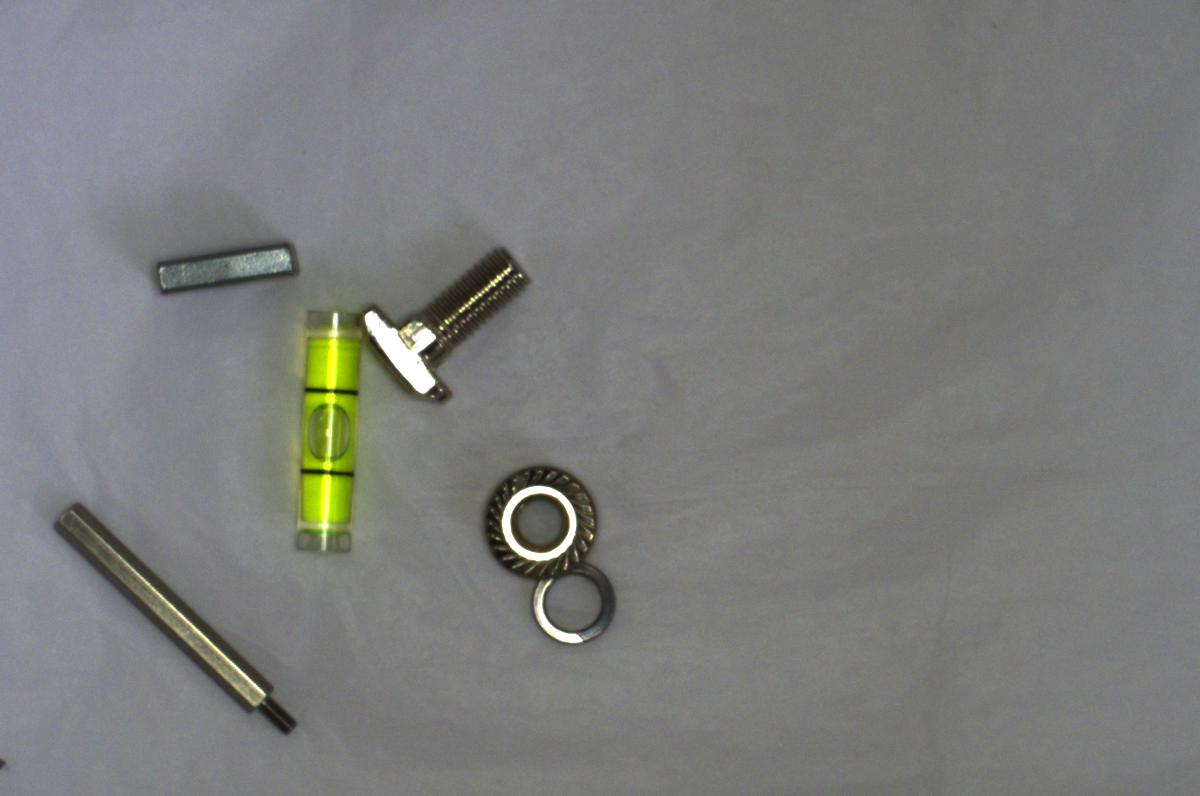Flange nut: (468, 456, 618, 583)
Hexagonal steel column: (54, 499, 300, 740)
Horizontal bubble: (282, 299, 361, 562)
Rectangular nut: (150, 232, 302, 301)
Spring washer: (525, 556, 624, 656)
T-shaped screw: (354, 247, 534, 407)
